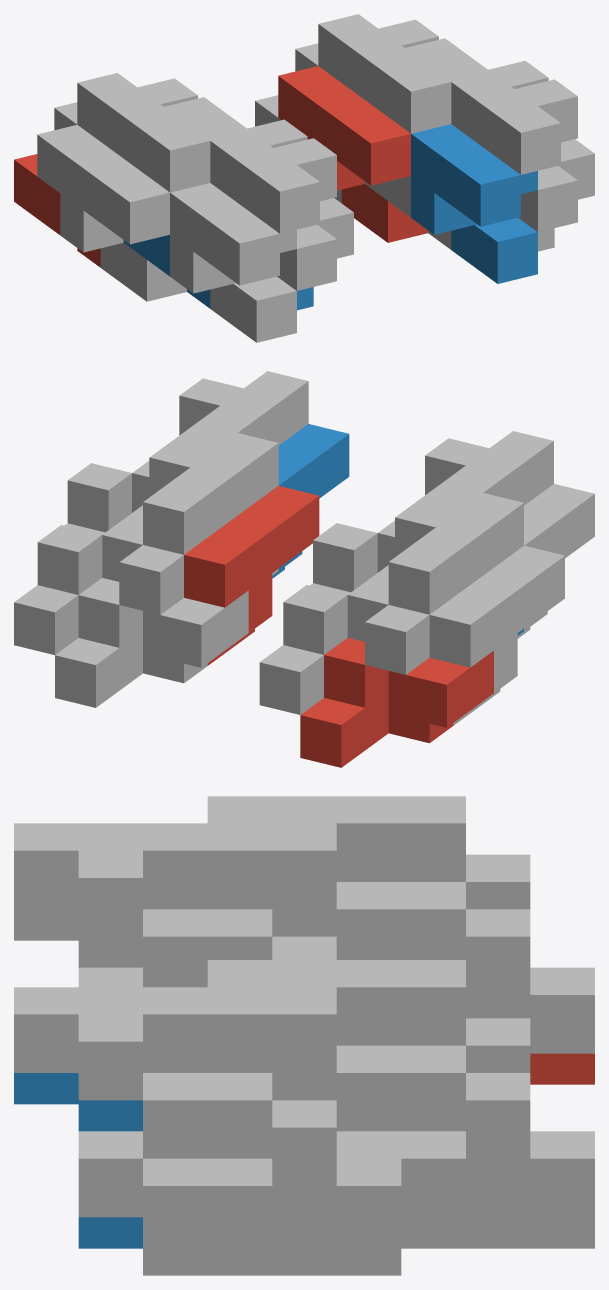
Rendered from tiling.obj.
3 renders of one model, top to bottom at view 1: azimuth 30°, elevation 25°; view 2: azimuth 150°, elevation 25°; view 3: azimuth 270°, elevation 25°, orthographic. The views are drawn at different scales.
Parts seen in each view (by area): view 1: copy_2_domain_1, copy_2_domain_6, copy_2_domain_2, copy_2_domain_4, copy_2_domain_8, copy_2_domain_5, copy_2_domain_3, copy_2_domain_7, copy_1_domain_1, copy_1_domain_8, copy_1_domain_4, copy_1_domain_3 (+4 smaller); view 2: copy_1_domain_5, copy_1_domain_1, copy_1_domain_3, copy_1_domain_7, copy_2_domain_7, copy_2_domain_3, copy_2_domain_5, copy_2_domain_1, copy_2_domain_8, copy_2_domain_4, copy_1_domain_8, copy_1_domain_4 (+2 smaller); view 3: copy_2_domain_8, copy_1_domain_8, copy_1_domain_7, copy_2_domain_4, copy_2_domain_7, copy_2_domain_3, copy_1_domain_3, copy_1_domain_6, copy_1_domain_4, copy_2_domain_6, copy_1_domain_5, copy_2_domain_2 (+1 smaller).
Part boxes in pixels (box(x1,y1,x2,y2)): copy_2_domain_1: box(37, 125, 186, 301); copy_2_domain_6: box(411, 124, 537, 283); copy_2_domain_2: box(170, 183, 296, 342); copy_2_domain_4: box(187, 114, 336, 290); copy_2_domain_8: box(428, 55, 577, 231); copy_2_domain_5: box(278, 66, 427, 242); copy_2_domain_3: box(77, 73, 226, 192); copy_2_domain_7: box(318, 14, 467, 133); copy_1_domain_1: box(14, 154, 100, 267); copy_1_domain_8: box(488, 60, 594, 199); copy_1_domain_4: box(247, 119, 353, 258); copy_1_domain_3: box(54, 78, 197, 130); copy_1_domain_5: box(55, 578, 248, 707); copy_1_domain_1: box(300, 638, 493, 767); copy_1_domain_3: box(259, 577, 429, 714); copy_1_domain_7: box(14, 517, 183, 654); copy_2_domain_7: box(126, 433, 278, 554); copy_2_domain_3: box(371, 493, 523, 614); copy_2_domain_5: box(184, 485, 319, 665); copy_2_domain_1: box(429, 545, 564, 725); copy_2_domain_8: box(173, 371, 308, 449); copy_2_domain_4: box(419, 431, 553, 509); copy_1_domain_8: box(64, 461, 149, 534); copy_1_domain_4: box(310, 520, 394, 594); copy_2_domain_8: box(14, 987, 272, 1217); copy_1_domain_8: box(143, 1073, 401, 1244); copy_1_domain_7: box(336, 1018, 594, 1217); copy_2_domain_4: box(14, 823, 272, 987); copy_2_domain_7: box(207, 960, 465, 1131); copy_2_domain_3: box(207, 796, 465, 959); copy_1_domain_3: box(401, 854, 594, 1053); copy_1_domain_6: box(143, 1244, 401, 1275); copy_1_domain_4: box(207, 909, 336, 959); copy_2_domain_6: box(14, 1073, 142, 1248); copy_1_domain_5: box(401, 1217, 594, 1248); copy_2_domain_2: box(14, 909, 142, 967).
Bounding box in the file's own units: 11 × 4 × 9.
